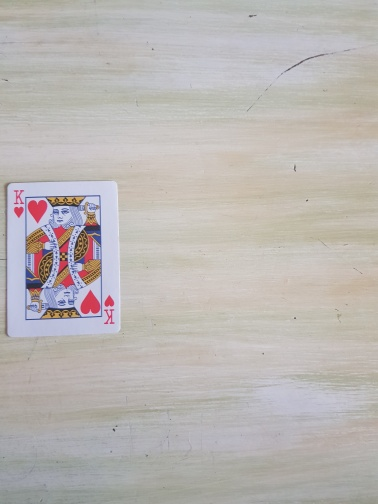king: (6, 180, 122, 338)
